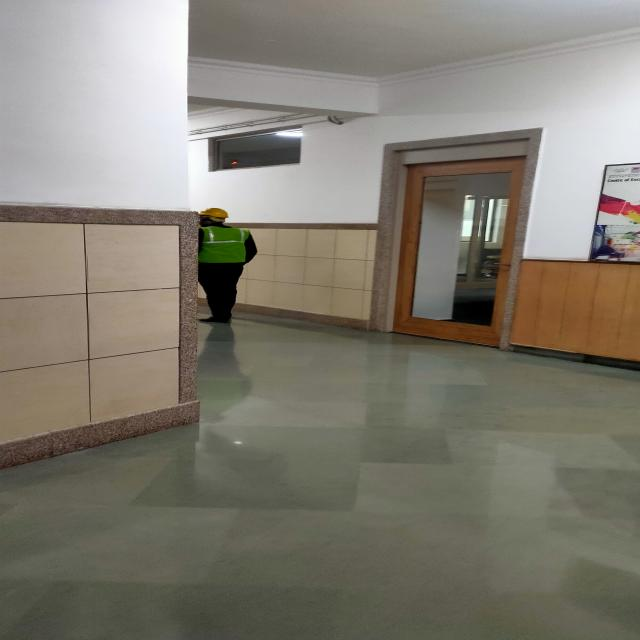safe: (200, 208, 257, 323)
